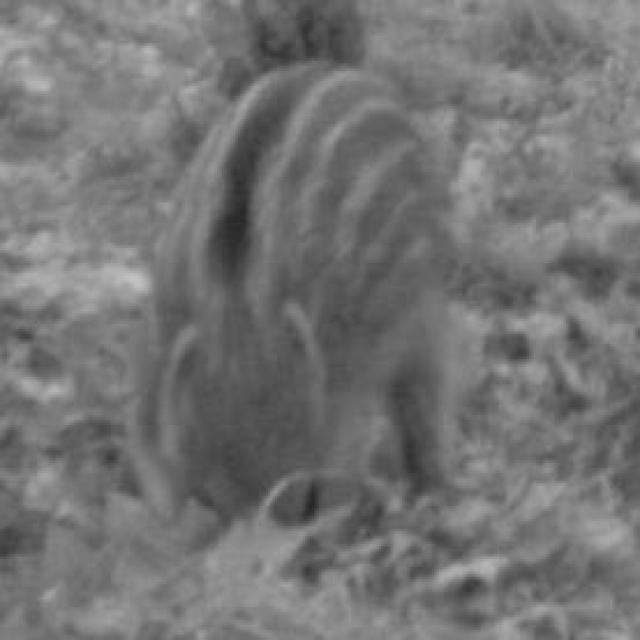pig: (88, 24, 460, 569)
